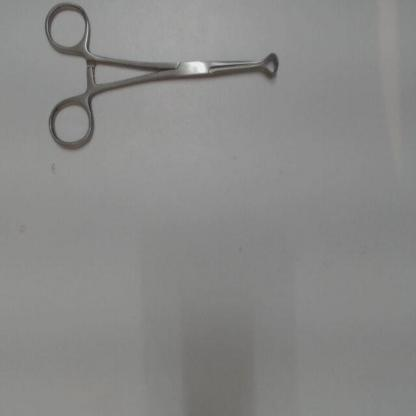Babcock Tissue Forceps: (44, 0, 282, 156)
